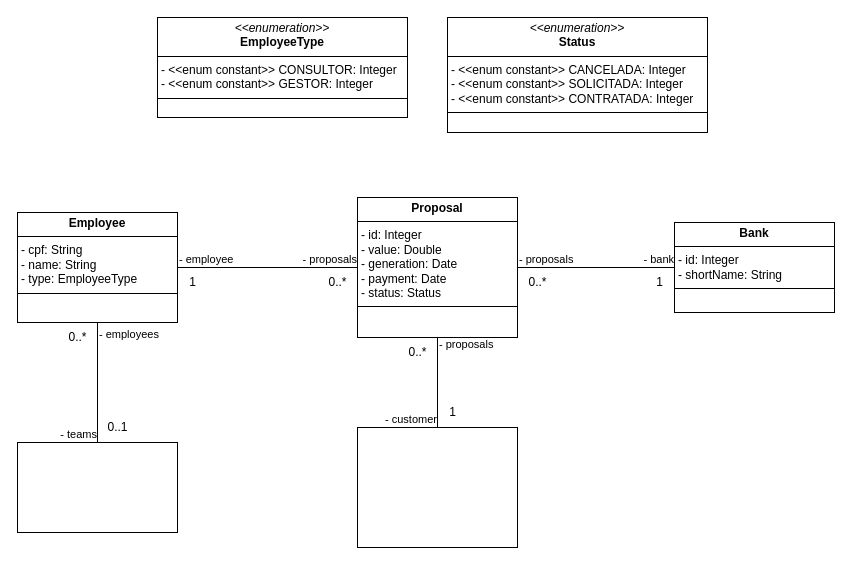
The diagram is 852 pixels wide and 565 high, and some of its shapes have lost their labels. The shapes that lost their labels are listed below. From the top down, each one's box as (x1, y1, x2, y2) in pixels, then its label:
(16, 442, 178, 532): Team - id: Integer - name: String
(356, 426, 518, 548): Customer - cpf: String - name: String - phone: String - birthDate: Date
